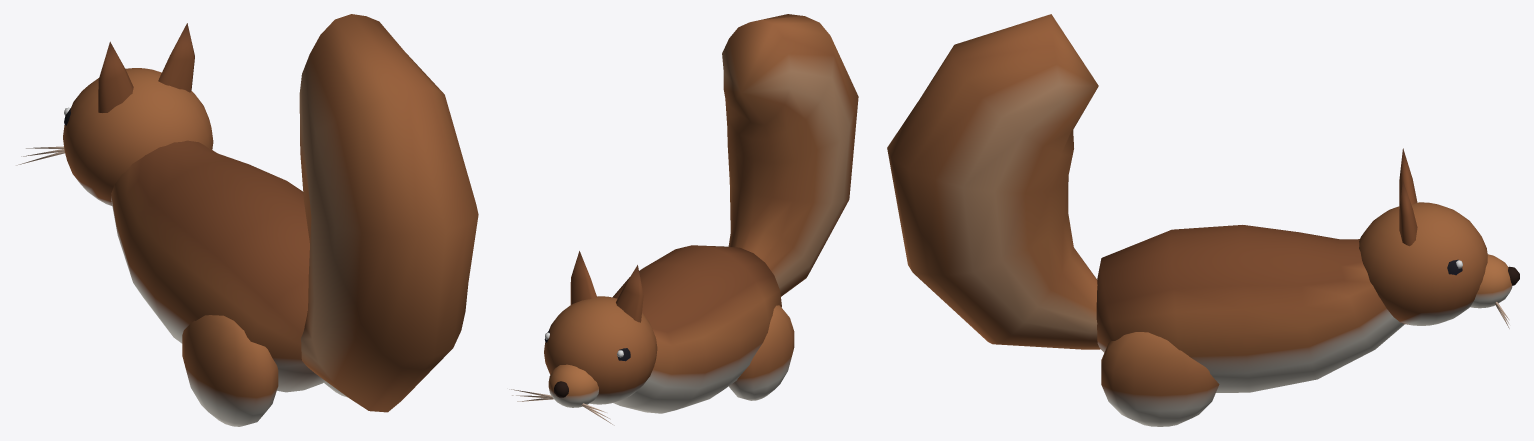
The model's file is Risu.fbx.
3 renders of one model, left to right at view 1: azimuth 30°, elevation 25°; view 2: azimuth 150°, elevation 25°; view 3: azimuth 270°, elevation 25°, orthographic. The views are drawn at different scales.
Visible parts, largest first — view 1: Risu; view 2: Risu; view 3: Risu.
Part boxes in pixels (x1,y1,x2,y2): Risu: (16, 14, 478, 426); Risu: (509, 14, 858, 425); Risu: (887, 14, 1519, 426).
Bounding box in the file's own units: 2.98 × 6.84 × 10.3.
